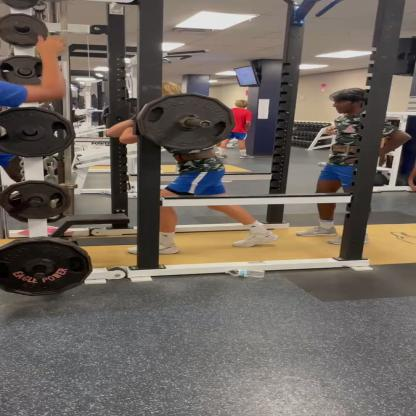Barbell: (135, 90, 243, 156)
